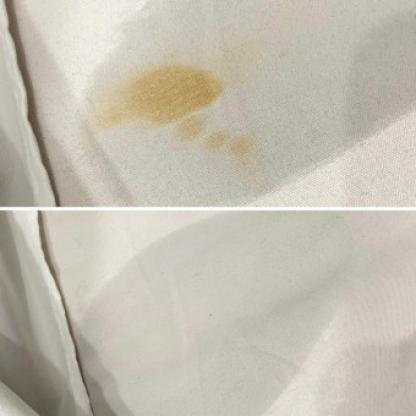coffee: (129, 71, 220, 113), (177, 120, 203, 138)
